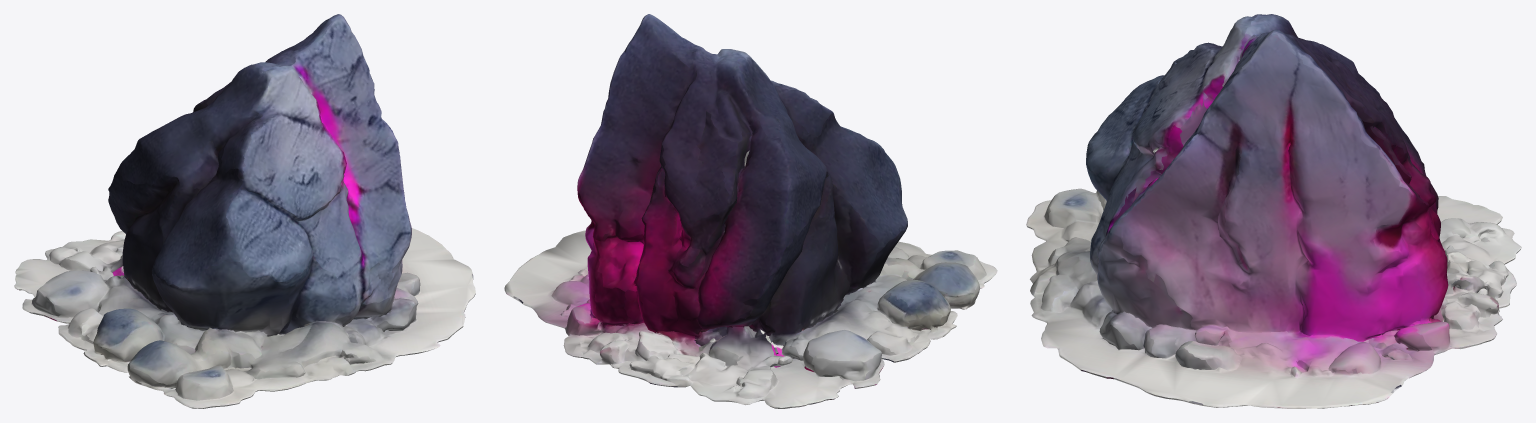
Rendered from shore-stone-3-generated-2026-05-17T19-58-56-912Z.medium.glb.
3 views of the same model, side by side, from view 1: azimuth 30°, elevation 25°; view 2: azimuth 150°, elevation 25°; view 3: azimuth 270°, elevation 25° (orthographic). The views are drawn at different scales.
Visible parts, largest first — view 1: temp_mesh.ply; view 2: temp_mesh.ply; view 3: temp_mesh.ply.
Part boxes in pixels (bbox=[...]): temp_mesh.ply: bbox=[14, 14, 475, 408]; temp_mesh.ply: bbox=[504, 14, 997, 408]; temp_mesh.ply: bbox=[1026, 14, 1521, 408].
Size of the model in its own units: 1.97 by 1.31 by 1.86.
Materials: 1 (1 with a texture image).
